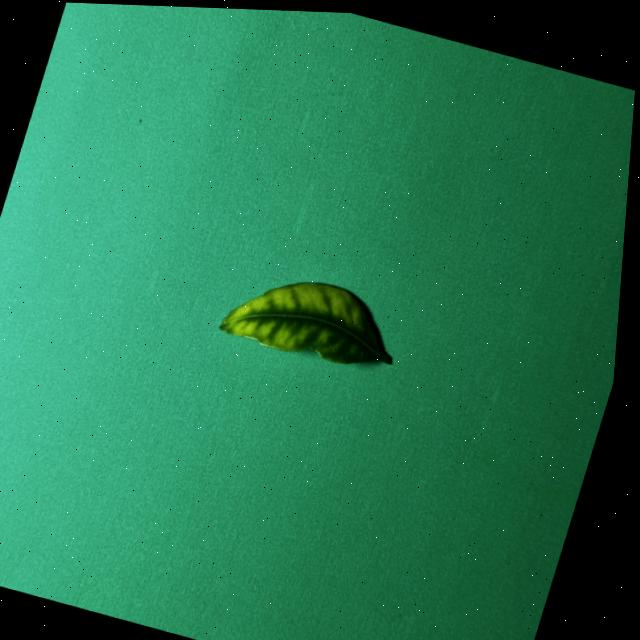greening: (220, 282, 391, 363)
